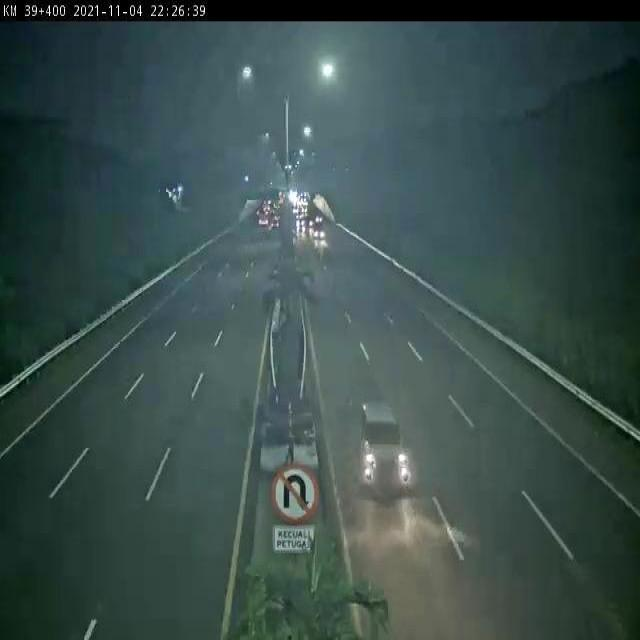car: (353, 406, 423, 510)
